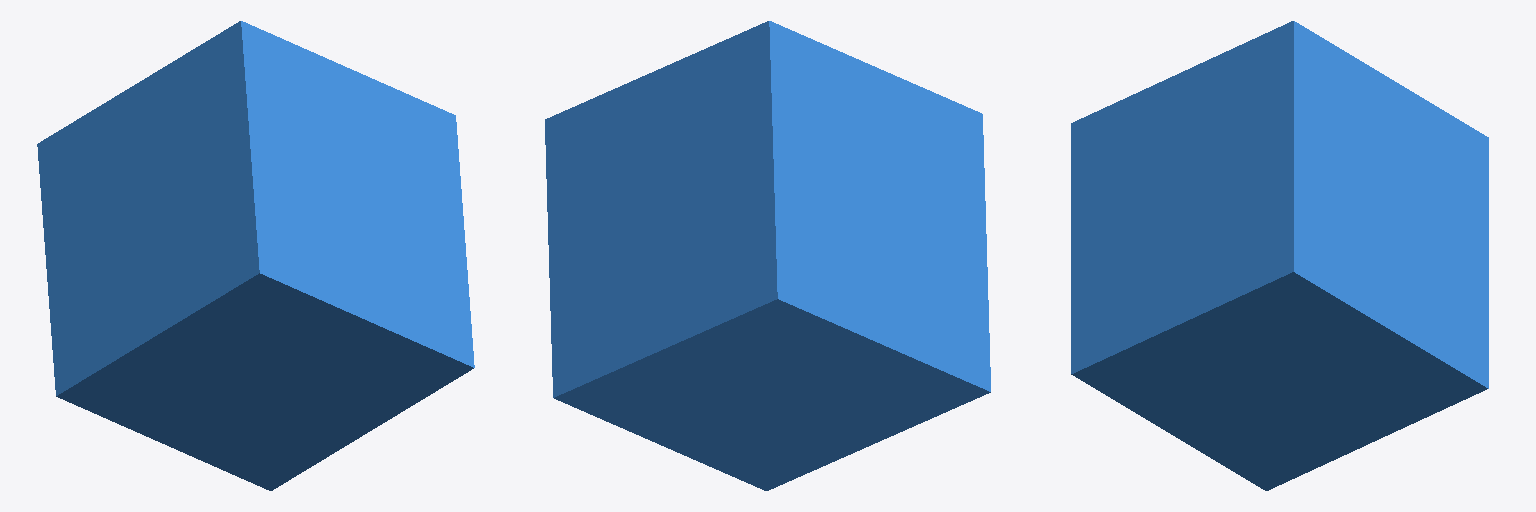
robot.urdf — fall_box_corner:
<?xml version="1.0"?>
<!-- 회전 낙하 시험 2: 정육면체를 꼭짓점이 거의 바로 아래로 오게 세워(대각선이 거의 수직) 놓는다. 한 점으로 서 있지 못하고 쓰러진다.
     뷰어에서 열면 위(z=1.5 m 근처)에서 시작해 중력으로 떨어진다. 기울어진 채 닿으면 모서리로 구르다 한 면에 서서 멈춘다. 단위 m, rad. -->
<robot name="fall_box_corner">
  <material name="body"><color rgba="0.3 0.6 0.9 1"/></material>
  <link name="fall_box_corner_link">
    <inertial><origin xyz="0 0 1.2"/><mass value="1.0"/><inertia ixx="0.02" ixy="0" ixz="0" iyy="0.02" iyz="0" izz="0.02"/></inertial>
    <visual>
      <origin xyz="0 0 1.2" rpy="0.72 0.58 0"/>
      <geometry><box size="0.4 0.4 0.4"/></geometry>
      <material name="body"/>
    </visual>
  </link>
</robot>

--- Render facts (derived) ---
The picture shows the robot from 3 angles, left to right: view 1: azimuth 30°, elevation 25°; view 2: azimuth 150°, elevation 25°; view 3: azimuth 270°, elevation 25°; orthographic projection.
Robot: fall_box_corner — 1 links, 0 joints (none); root link fall_box_corner_link; default pose: all joints at 0.
Links seen in each view (by area): view 1: fall_box_corner_link; view 2: fall_box_corner_link; view 3: fall_box_corner_link.
Link boxes in pixels (x1=…): fall_box_corner_link: x1=37, y1=21, x2=474, y2=490; fall_box_corner_link: x1=545, y1=21, x2=990, y2=490; fall_box_corner_link: x1=1071, y1=21, x2=1488, y2=490.
Bounding box of the posed robot: 0.6439 × 0.5645 × 0.6914 m (x, y, z).
Geometry: primitives only (box / cylinder / sphere), no mesh files.
